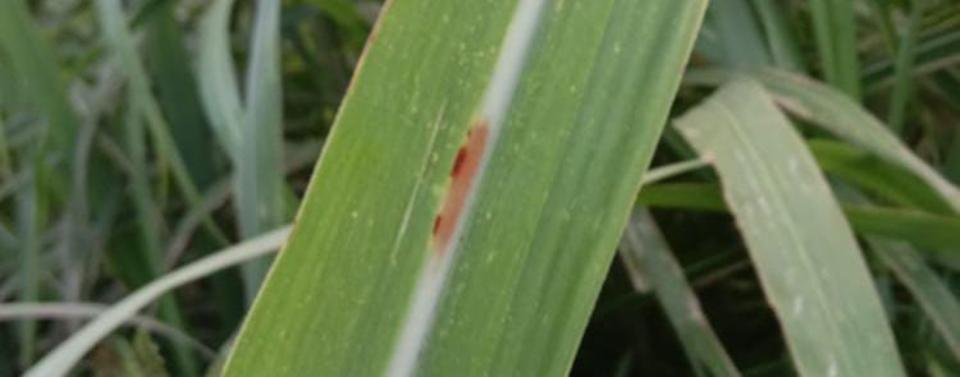RedRot: (430, 119, 492, 256)
